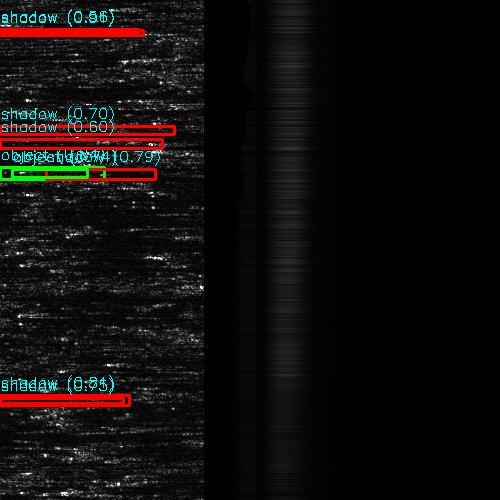rock: (19, 170, 60, 179)
shadow: (0, 373, 88, 392), (0, 126, 175, 135), (0, 396, 126, 405), (0, 30, 141, 37), (40, 170, 135, 179)
